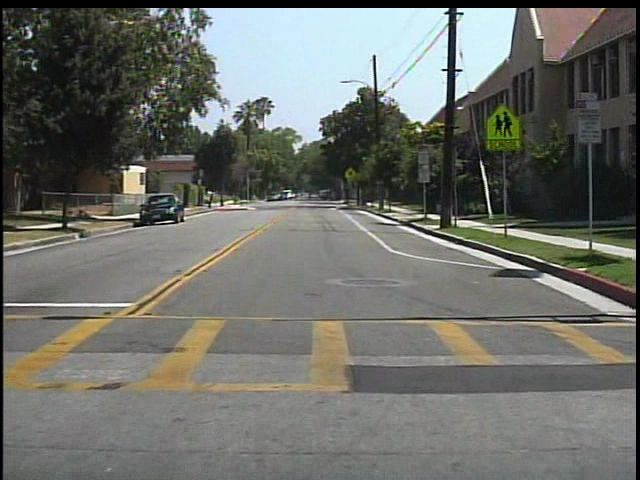person: (304, 187, 318, 205)
